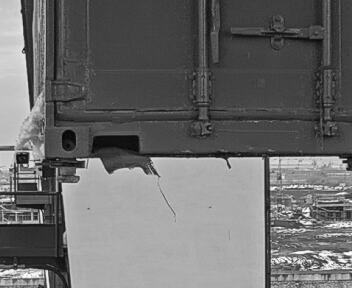twist_lock_1: (44, 156, 89, 190)
